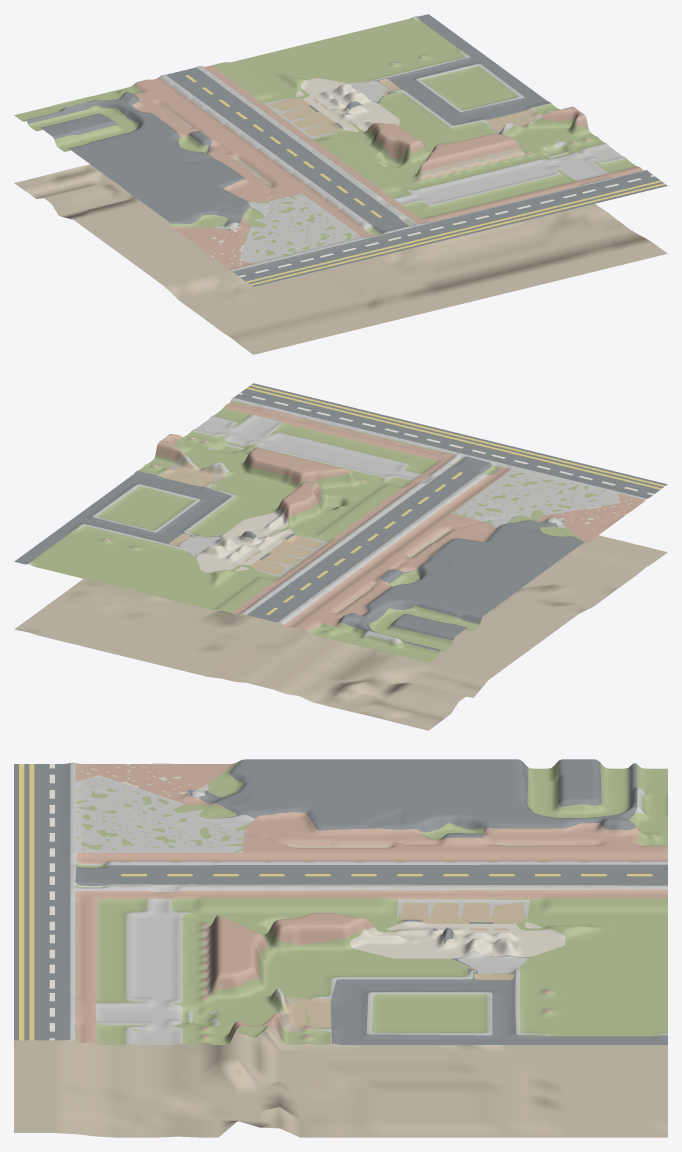
The picture shows the model from 3 angles, top to bottom: view 1: azimuth 30°, elevation 25°; view 2: azimuth 150°, elevation 25°; view 3: azimuth 270°, elevation 25°; orthographic projection. The views are drawn at different scales.
Parts seen in each view (by area): view 1: s_-6_-4__soil, s_-6_-4__asphalt, s_-6_-4__grass, s_-6_-4__brick_paving, s_-6_-4__stone_paving, s_-6_-4__paving, s_-6_-4__yellow_marking, s_-6_-4__timber_deck, s_-6_-4__white_marking; view 2: s_-6_-4__soil, s_-6_-4__grass, s_-6_-4__asphalt, s_-6_-4__stone_paving, s_-6_-4__brick_paving, s_-6_-4__paving, s_-6_-4__yellow_marking, s_-6_-4__timber_deck, s_-6_-4__white_marking; view 3: s_-6_-4__soil, s_-6_-4__grass, s_-6_-4__asphalt, s_-6_-4__brick_paving, s_-6_-4__stone_paving, s_-6_-4__paving, s_-6_-4__yellow_marking, s_-6_-4__timber_deck, s_-6_-4__white_marking.
Part boxes in pixels (x1,y1,x2,y2): s_-6_-4__soil: (14, 49, 667, 354); s_-6_-4__asphalt: (26, 14, 667, 286); s_-6_-4__grass: (14, 16, 637, 260); s_-6_-4__brick_paving: (132, 56, 643, 269); s_-6_-4__stone_paving: (63, 16, 646, 270); s_-6_-4__paving: (210, 78, 399, 267); s_-6_-4__yellow_marking: (185, 75, 665, 285); s_-6_-4__timber_deck: (268, 79, 536, 136); s_-6_-4__white_marking: (238, 175, 654, 277); s_-6_-4__soil: (14, 455, 667, 730); s_-6_-4__grass: (27, 400, 613, 662); s_-6_-4__asphalt: (14, 383, 667, 651); s_-6_-4__stone_paving: (28, 398, 646, 643); s_-6_-4__brick_paving: (103, 402, 644, 631); s_-6_-4__paving: (196, 499, 639, 572); s_-6_-4__yellow_marking: (246, 384, 665, 614); s_-6_-4__timber_deck: (162, 462, 323, 574); s_-6_-4__white_marking: (239, 393, 654, 495); s_-6_-4__soil: (14, 843, 667, 1137); s_-6_-4__grass: (75, 760, 667, 1044); s_-6_-4__asphalt: (14, 759, 667, 1044); s_-6_-4__brick_paving: (75, 763, 667, 1043); s_-6_-4__stone_paving: (70, 762, 667, 1044); s_-6_-4__paving: (81, 764, 565, 958); s_-6_-4__yellow_marking: (19, 764, 652, 1040); s_-6_-4__timber_deck: (285, 902, 524, 1028); s_-6_-4__white_marking: (49, 764, 54, 1040).
Size of the model in its own units: 128 by 25.72 by 128.
